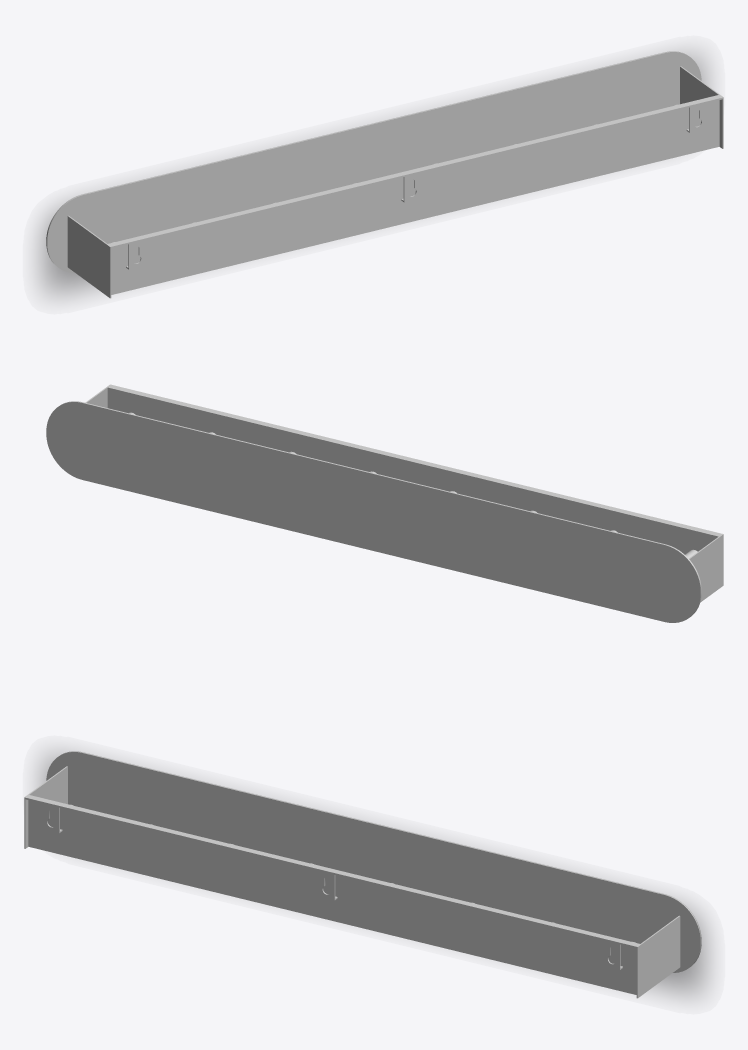
Rendered from round-hook.08cf9b1bf3.ar.glb.
3 renders of one model, top to bottom at view 1: azimuth 30°, elevation 25°; view 2: azimuth 150°, elevation 25°; view 3: azimuth 330°, elevation 25°, orthographic.
Parts seen in each view (by area): view 1: NAUO1, object 2; view 2: NAUO1; view 3: NAUO1, object 2.
Boxes of the visible parts, <box> form: NAUO1: <box>46,51,723,298</box>; object 2: <box>38,54,708,295</box>; NAUO1: <box>46,384,723,622</box>; NAUO1: <box>24,751,701,998</box>; object 2: <box>39,754,709,995</box>.
Bounding box in the file's own units: 0.88 × 0.17 × 0.092.
2 materials, 1 textured.
